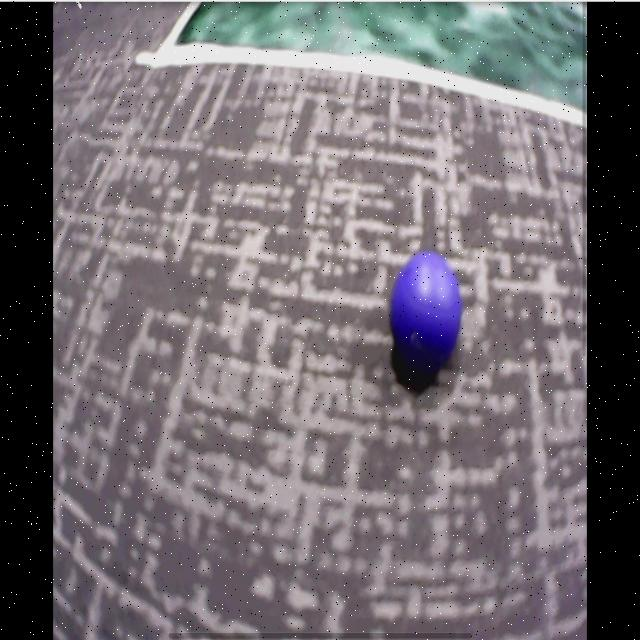ball: (389, 252, 461, 362)
